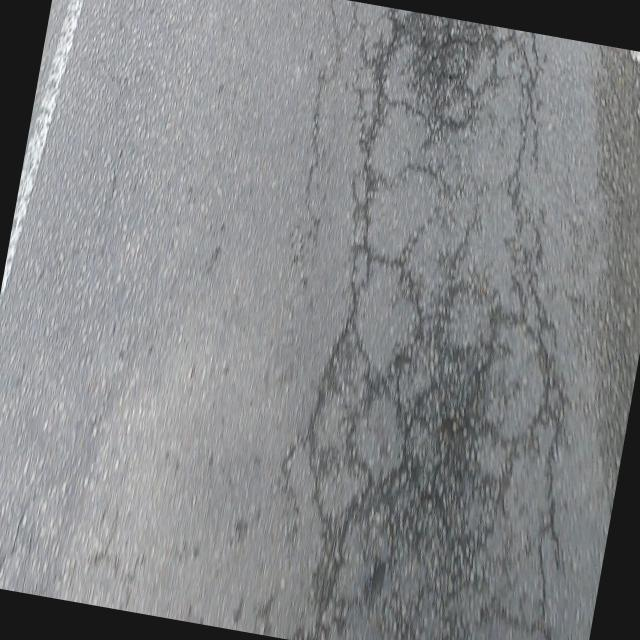Retak-Buaya: (305, 9, 569, 640)
